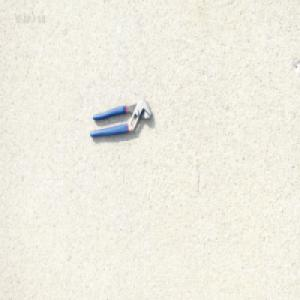Pliers: (88, 97, 153, 139)
